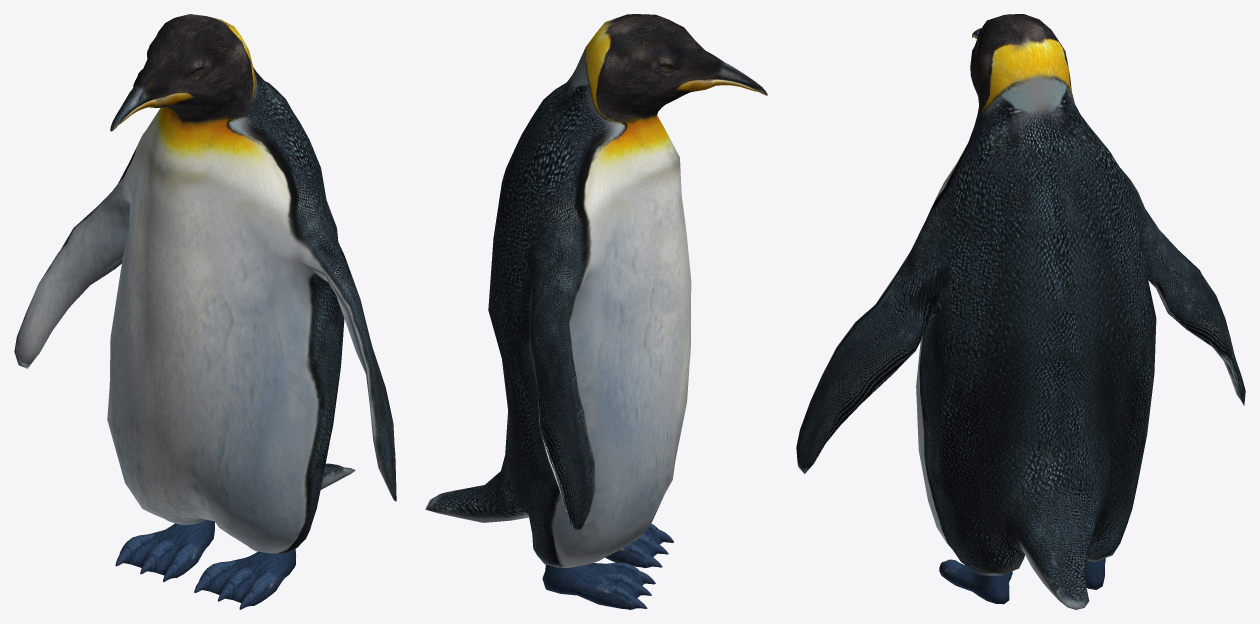
3 renders of one model, left to right at view 1: azimuth 30°, elevation 25°; view 2: azimuth 150°, elevation 25°; view 3: azimuth 270°, elevation 25°, orthographic. The views are drawn at different scales.
Parts seen in each view (by area): view 1: penguin.001; view 2: penguin.001; view 3: penguin.001.
Boxes of the visible parts, x1=… form: penguin.001: x1=14, y1=14, x2=396, y2=609; penguin.001: x1=425, y1=14, x2=767, y2=609; penguin.001: x1=796, y1=14, x2=1245, y2=609.
Size of the model in its own units: 12.1 by 22.22 by 16.57.
